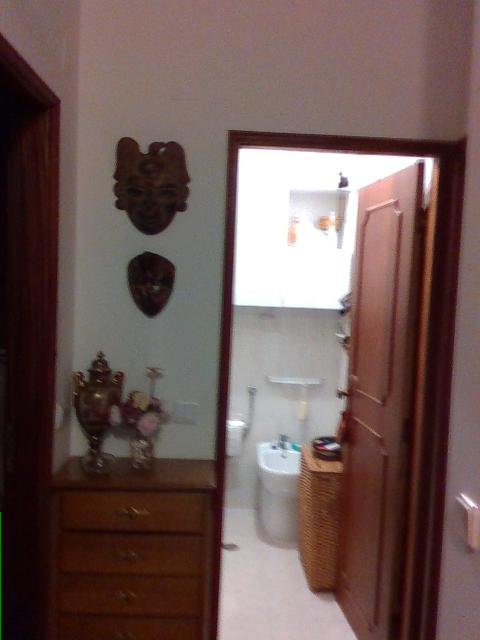door: (336, 161, 425, 640)
